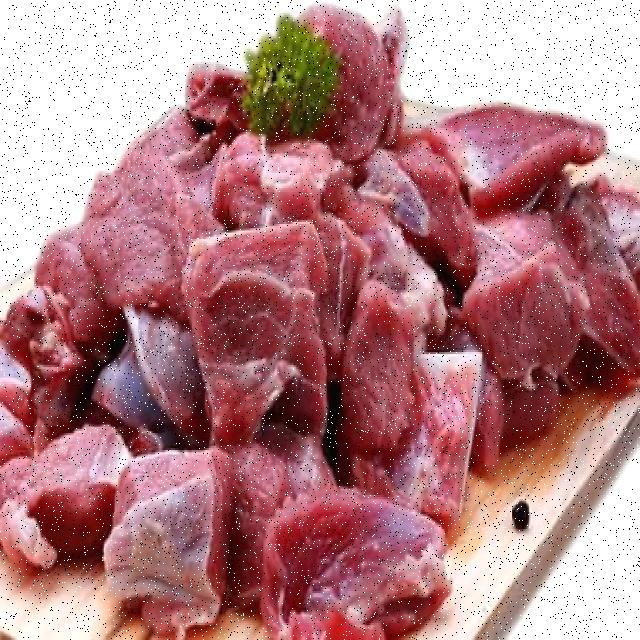Mutton: (4, 106, 503, 562), (276, 46, 636, 395)
